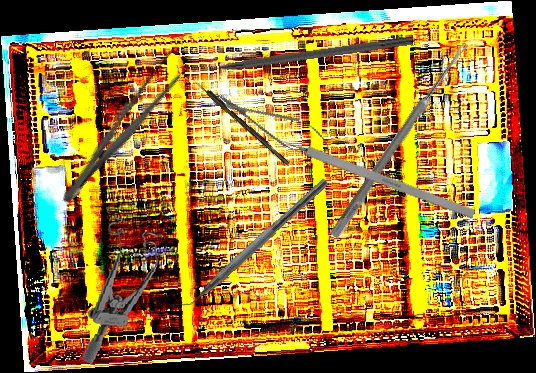Chopper: (166, 166, 331, 323)
Dressing Forceps: (52, 44, 194, 213)
Hook Surgical: (265, 130, 476, 220), (193, 33, 413, 76), (193, 78, 291, 167)
Micro Scissor: (207, 83, 337, 165)
Speculum: (81, 210, 165, 372)
Surgical Spoon: (329, 40, 470, 240)
